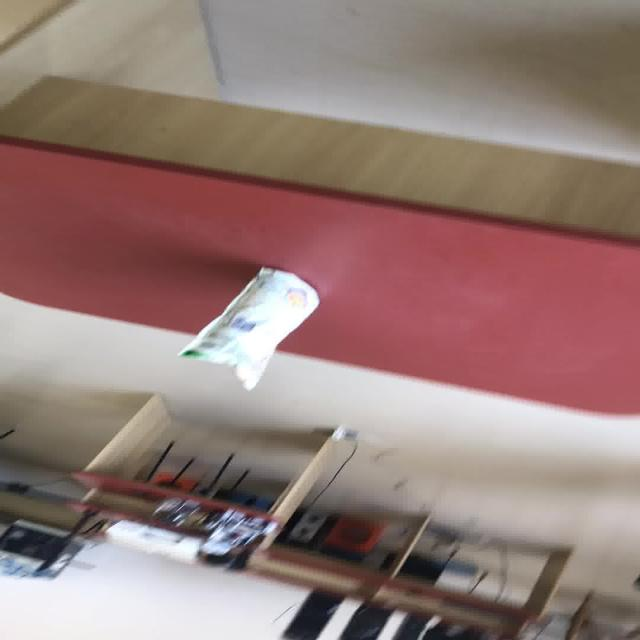corn flakes: (176, 265, 321, 391)
